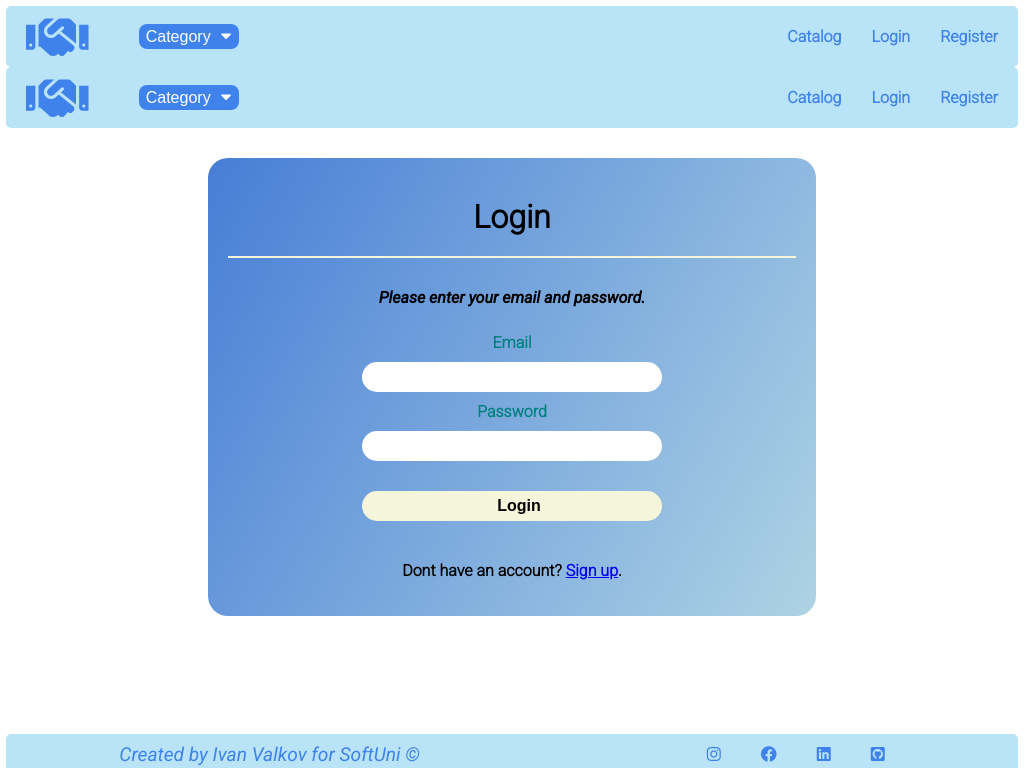
Test Header component › Links && Dropdown menu › user should click and go to Register page
Step 1. Click the 1st link "Register" → (974, 36), box [940, 27, 1008, 46]
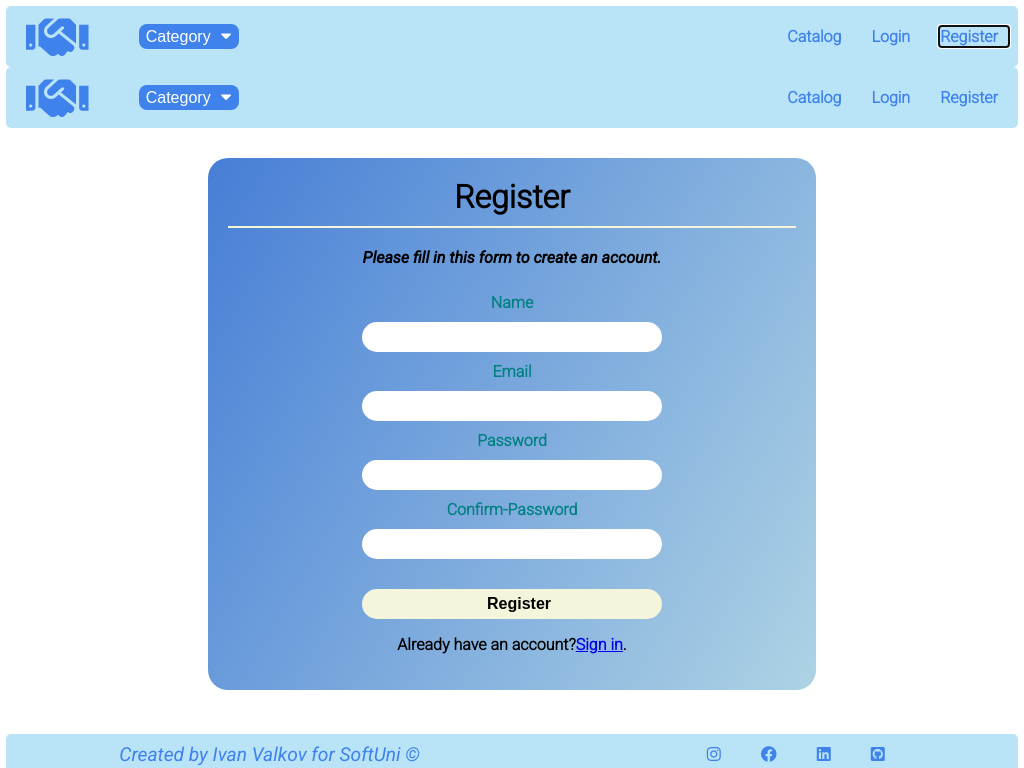
Now the heading "Register" is shown, box [228, 178, 796, 228]
